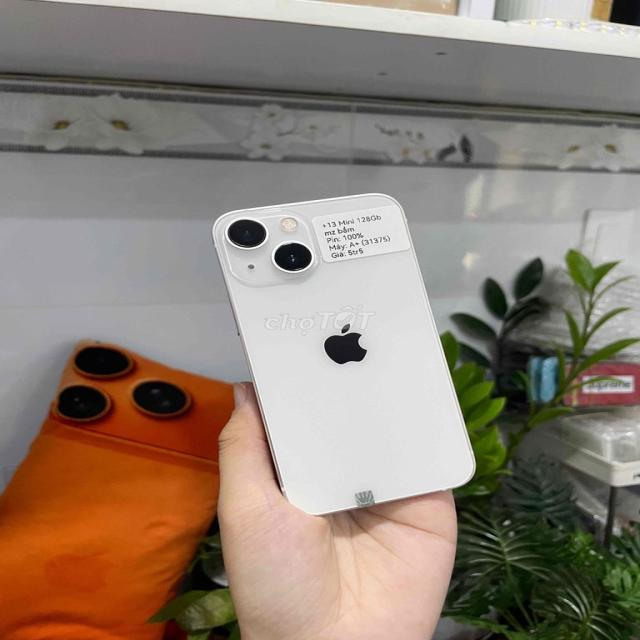gen_12_13: (208, 188, 483, 517)
